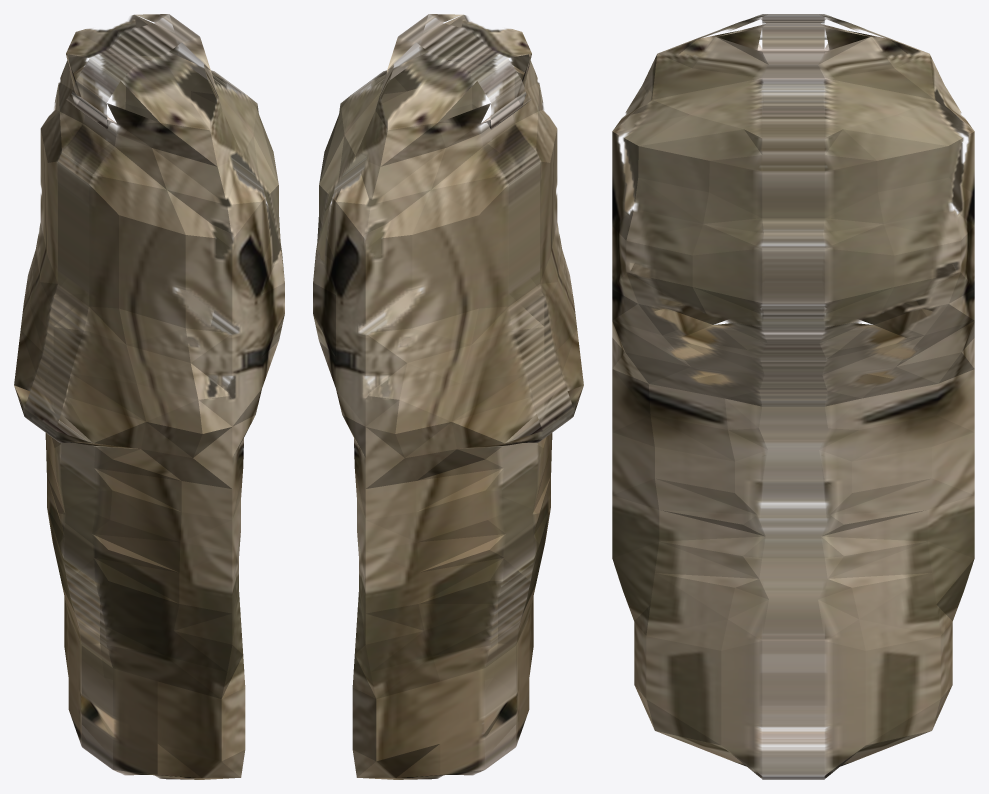
The model's file is held-circuit-rain-gear-047.glb.
The picture shows the model from 3 angles, left to right: view 1: azimuth 30°, elevation 25°; view 2: azimuth 150°, elevation 25°; view 3: azimuth 270°, elevation 25°; orthographic projection.
Visible parts, largest first — view 1: world; view 2: world; view 3: world.
Part boxes in pixels (<box>): world: <box>14,14,284,779</box>; world: <box>313,14,583,779</box>; world: <box>612,14,974,779</box>.
Bounding box in the file's own units: 0.3014 × 1 × 0.44.
1 material, 1 textured.
